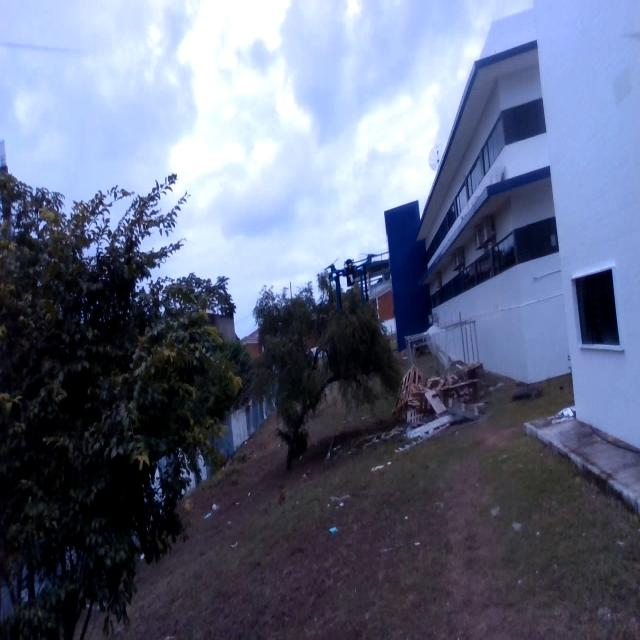-uav-: (317, 246, 388, 339)
